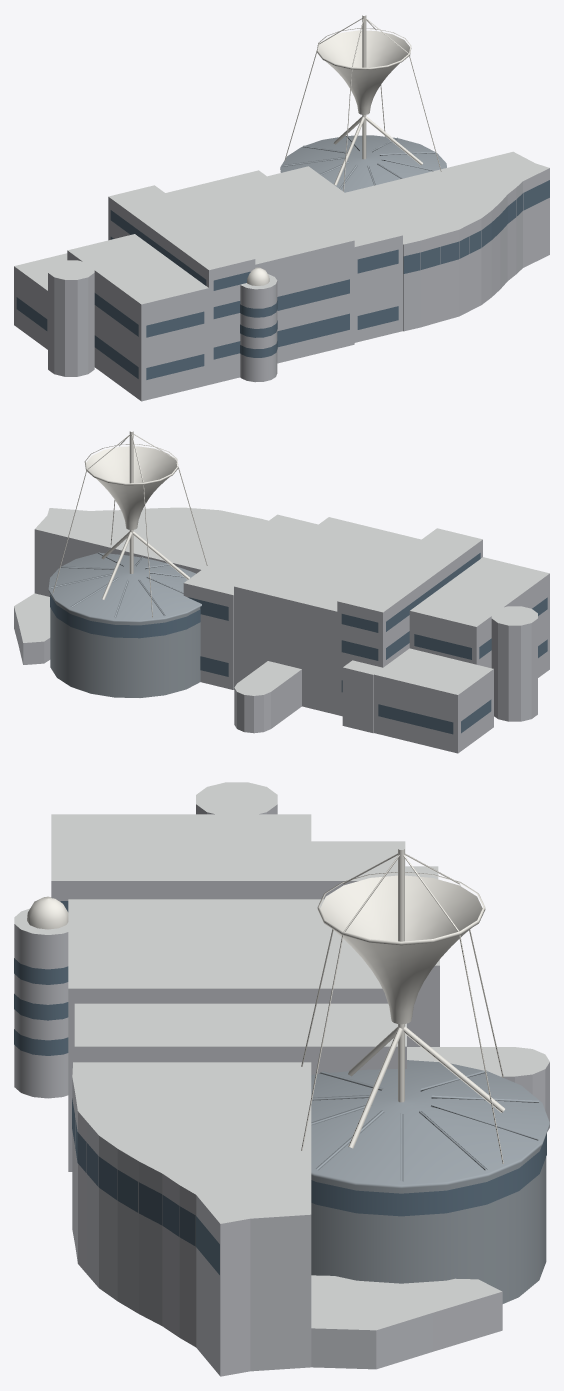
Rendered from pit-carnegie-science-center.glb.
3 renders of one model, top to bottom at view 1: azimuth 30°, elevation 25°; view 2: azimuth 150°, elevation 25°; view 3: azimuth 270°, elevation 25°, orthographic. The views are drawn at different scales.
Visible parts, largest first — view 1: Carnegie Science Center; view 2: Carnegie Science Center; view 3: Carnegie Science Center.
Boxes of the visible parts, x1,y1,x2,y2 form: Carnegie Science Center: (14,15,549,401); Carnegie Science Center: (14,431,549,753); Carnegie Science Center: (14,782,549,1376).
Size of the model in its own units: 128 by 58.1 by 68.4.
